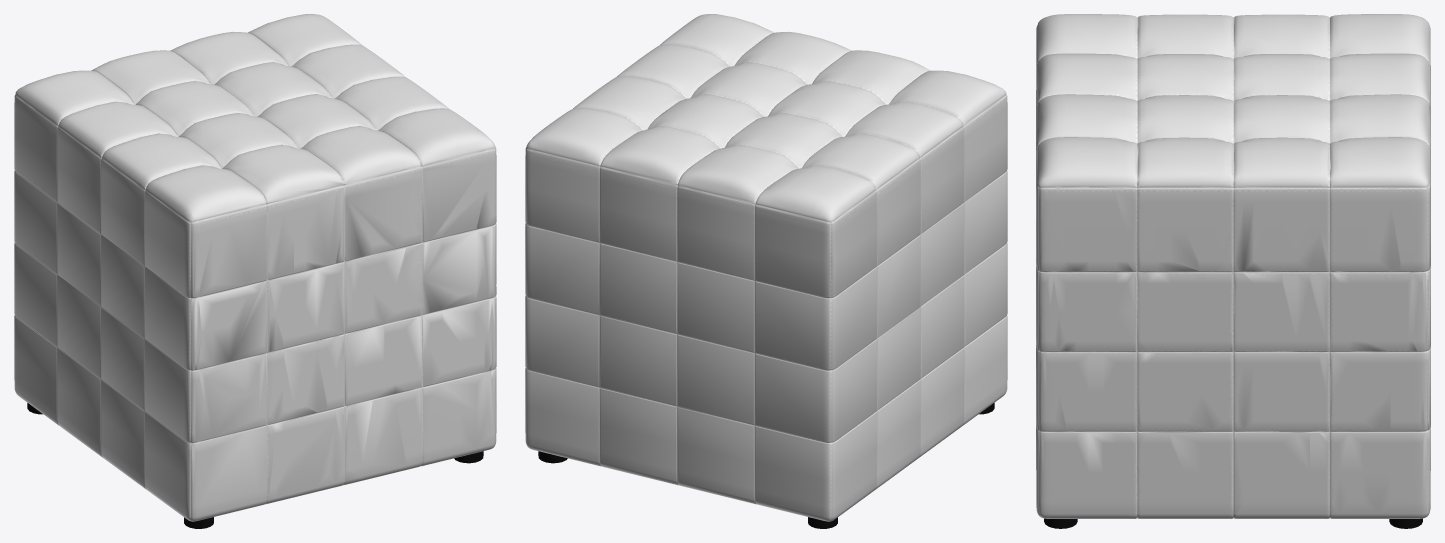
File: B07CPQP34D.glb
3 views of the same model, side by side, from view 1: azimuth 30°, elevation 25°; view 2: azimuth 150°, elevation 25°; view 3: azimuth 270°, elevation 25° (orthographic). The views are drawn at different scales.
Visible parts, largest first — view 1: B07CPQP34D; view 2: B07CPQP34D; view 3: B07CPQP34D.
Boxes of the visible parts, x1,y1,x2,y2 form: B07CPQP34D: (14, 14, 496, 528); B07CPQP34D: (525, 14, 1007, 528); B07CPQP34D: (1036, 14, 1430, 528).
Bounding box in the file's own units: 0.4255 × 0.4318 × 0.4255.
Materials: 1 (1 with a texture image).
